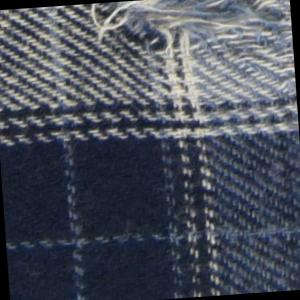Damage: (84, 1, 297, 103)
